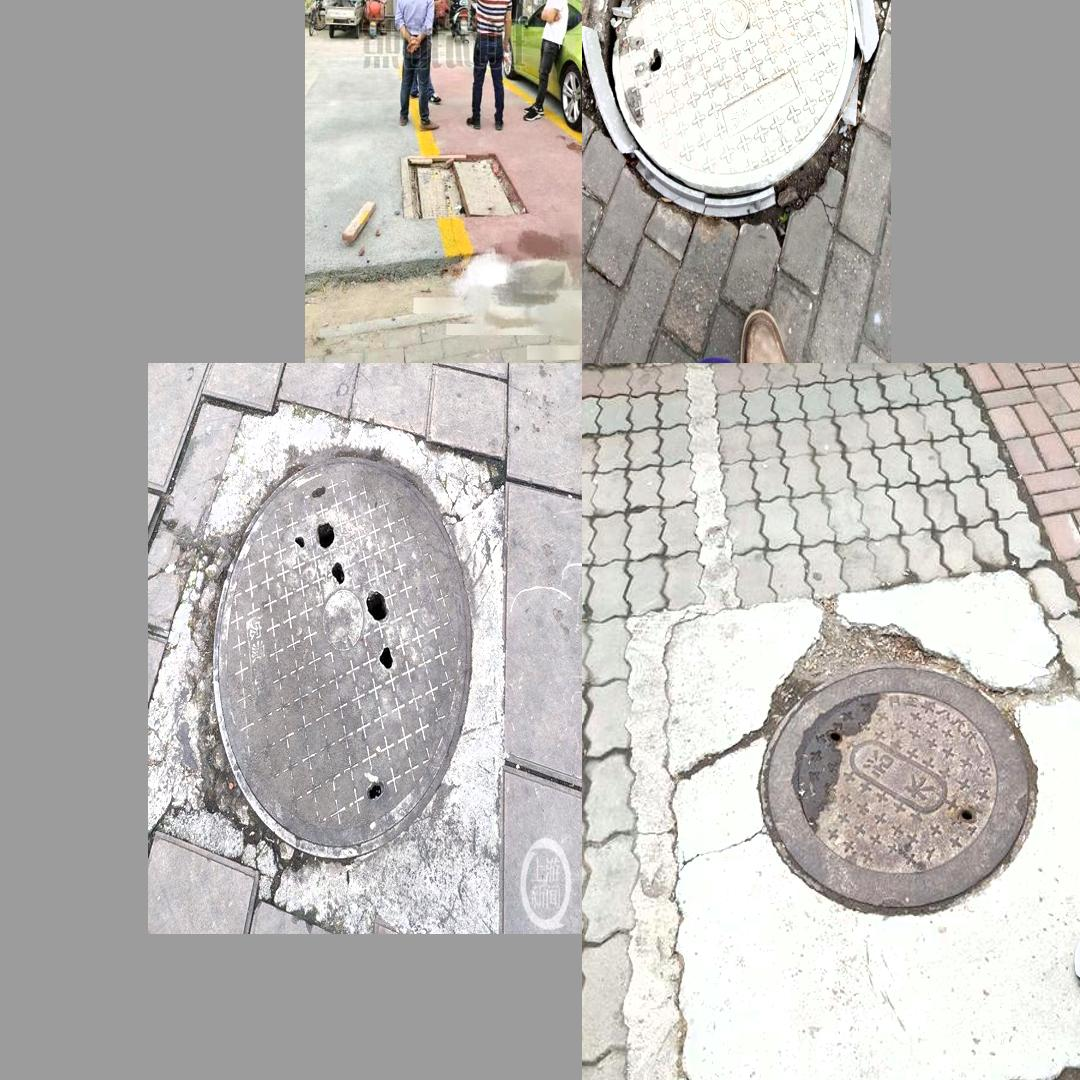circle: (158, 396, 516, 920), (688, 604, 1080, 956), (584, 0, 886, 237), (400, 154, 522, 222)
